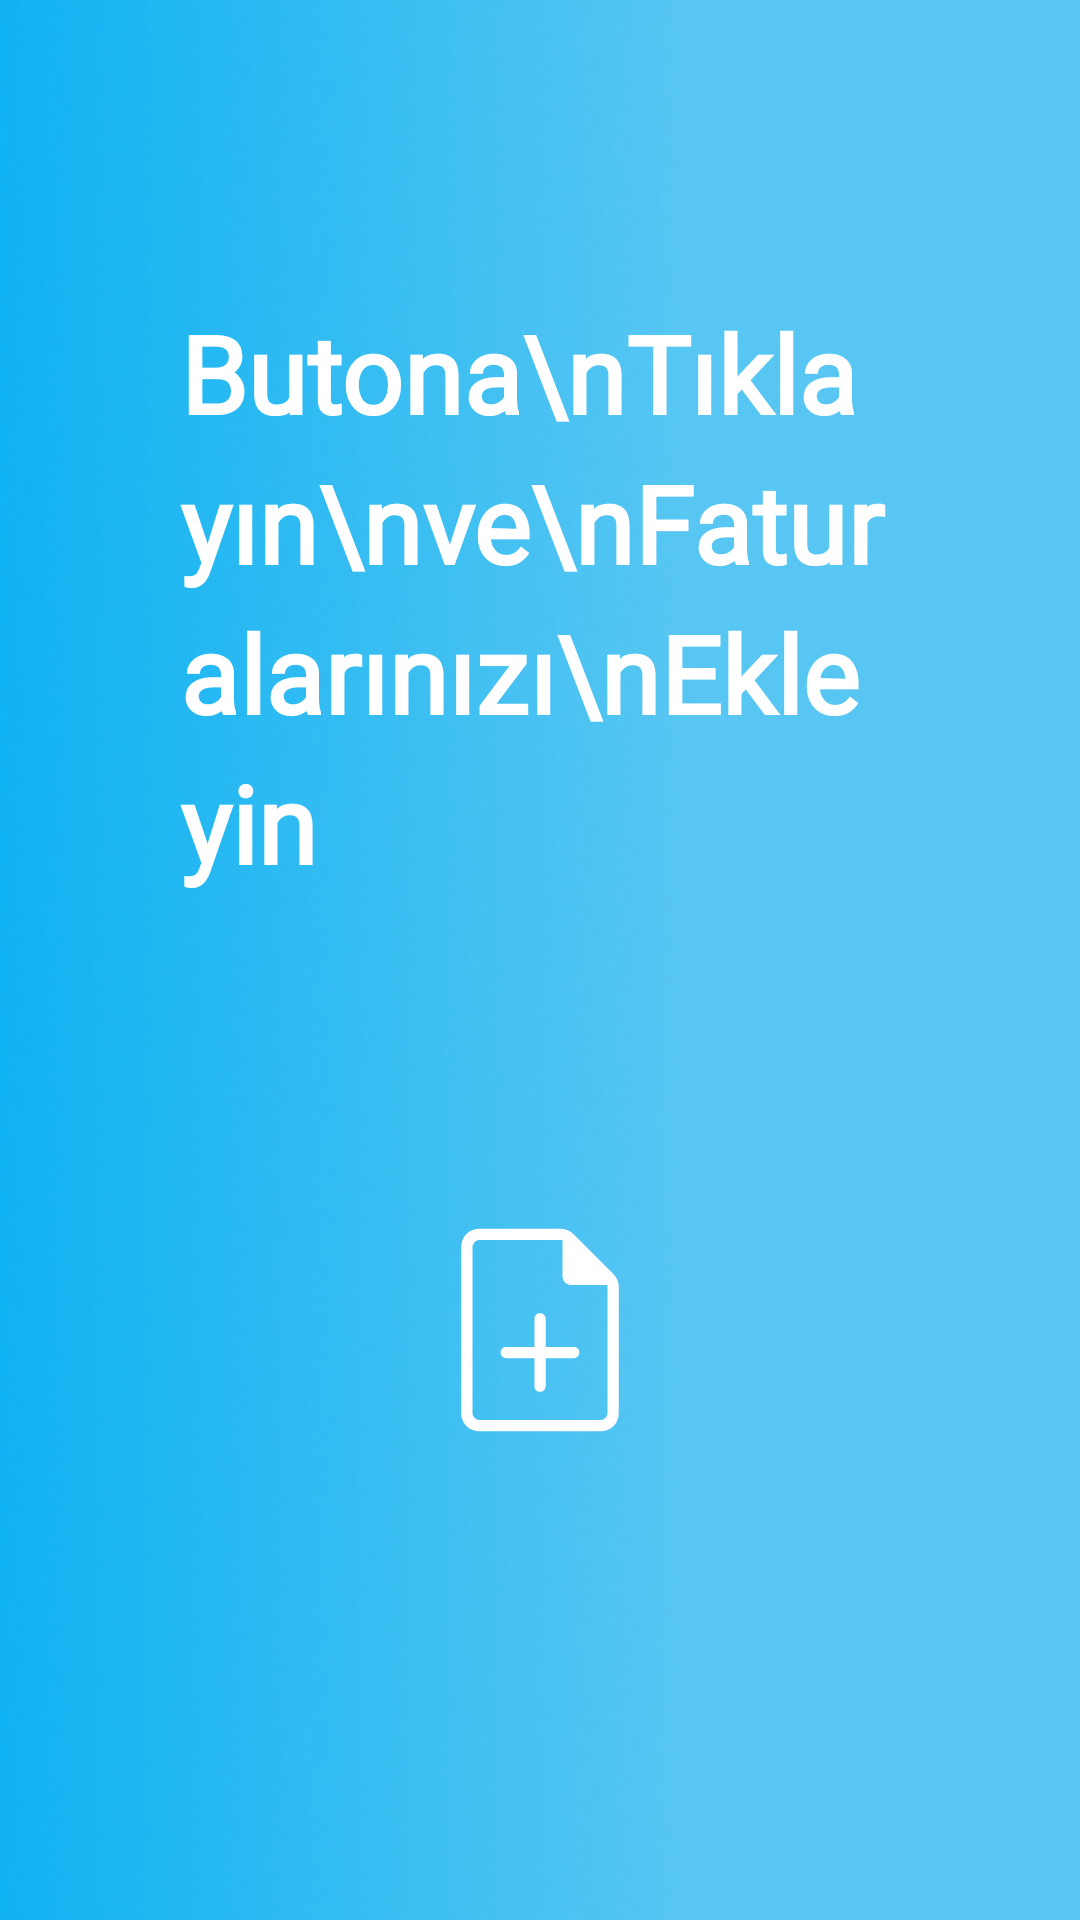

Where icons sit on this 1080px×1920px app screen, as (x1, y1, x2, y2):
add bills: (461, 1195, 675, 1465)
